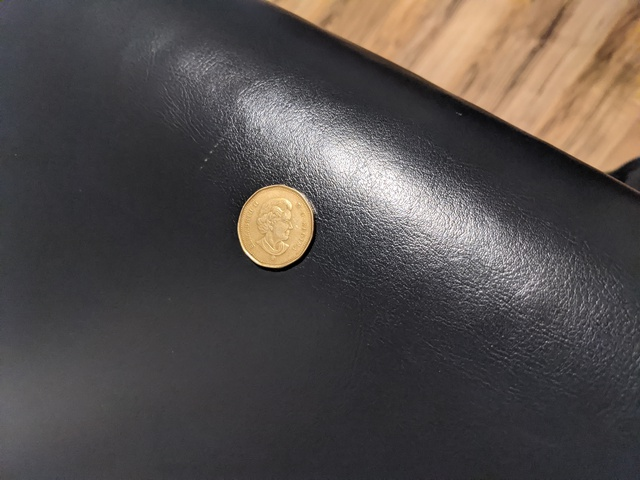loonie: (230, 179, 331, 273)
